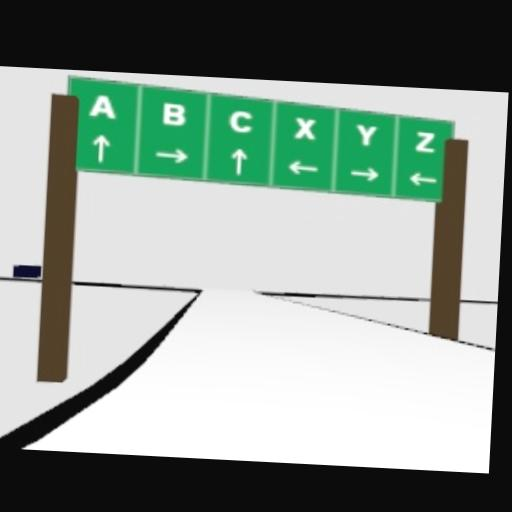A: (88, 92, 115, 117)
B: (161, 102, 186, 125)
C: (228, 108, 253, 131)
Left: (287, 158, 319, 174), (407, 171, 437, 186)
Right: (154, 146, 189, 163), (349, 164, 379, 181)
Straight: (89, 133, 110, 161), (229, 146, 248, 173)
X: (293, 116, 316, 139)
Y: (355, 122, 378, 145)
Z: (414, 129, 436, 151)
